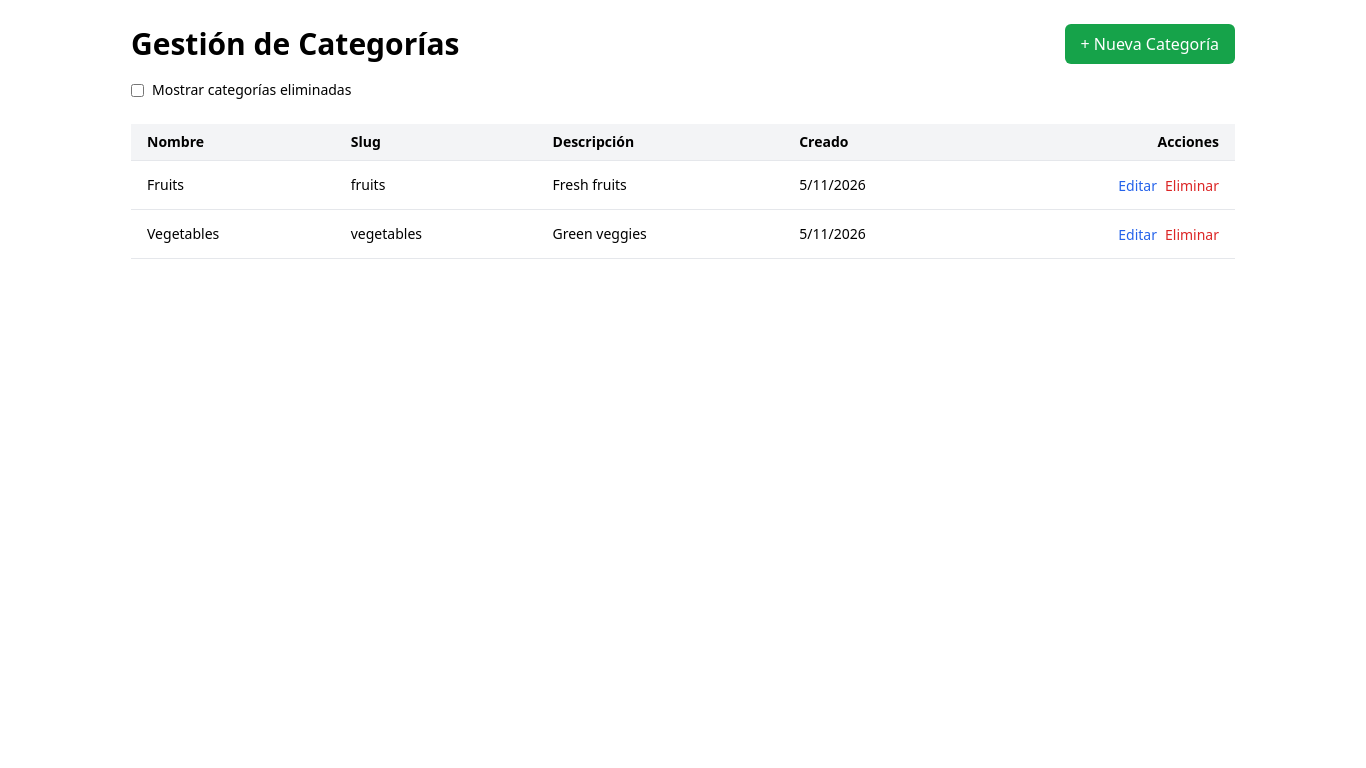
it: CategoriesPage › opens create modal when Create Category button is clicked
Click the button "+ Nueva Categoría" at (1150, 44), box top-left (1064, 24), bottom-right (1235, 64)
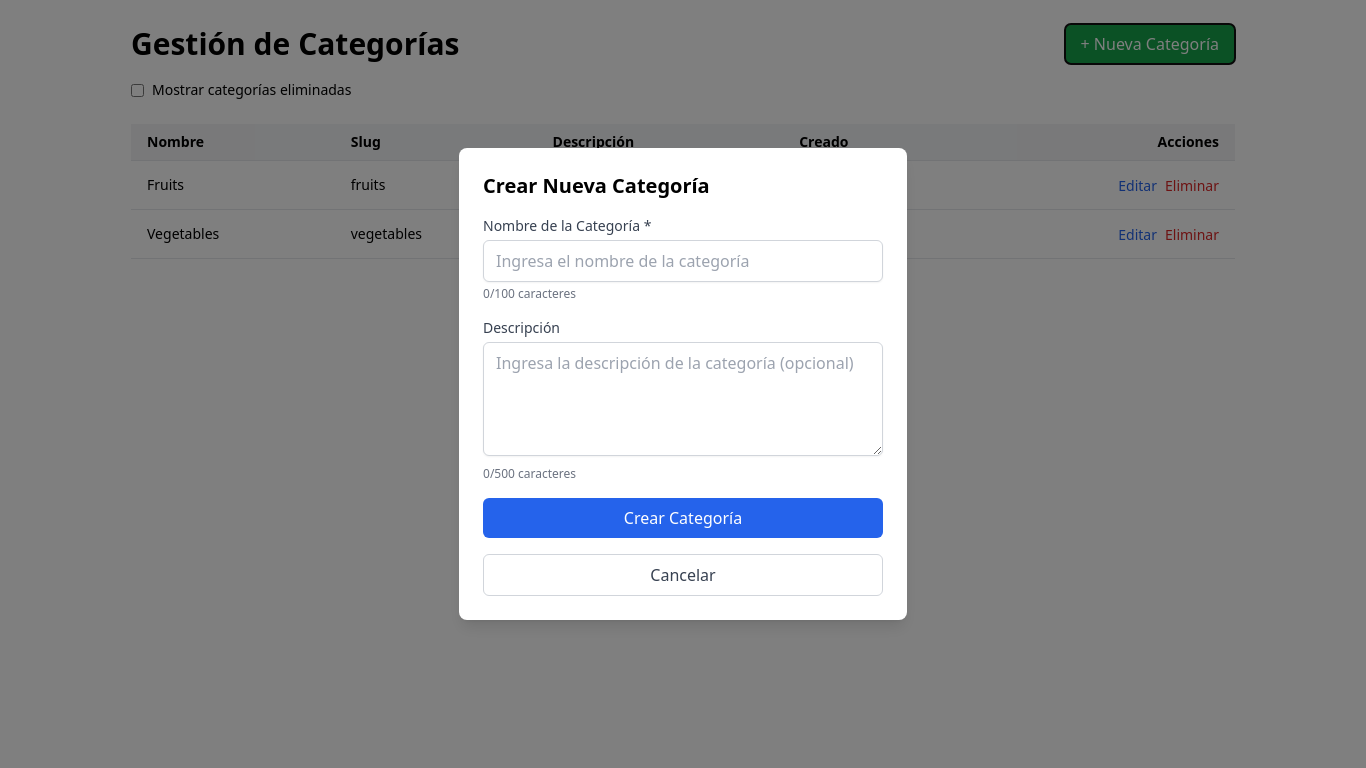
Expected: the heading "Crear Nueva Categoría" is shown, top-left (483, 172), bottom-right (710, 199)
